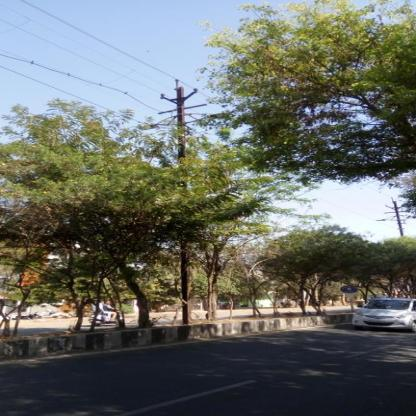Electrical Pole: (146, 73, 220, 325)
